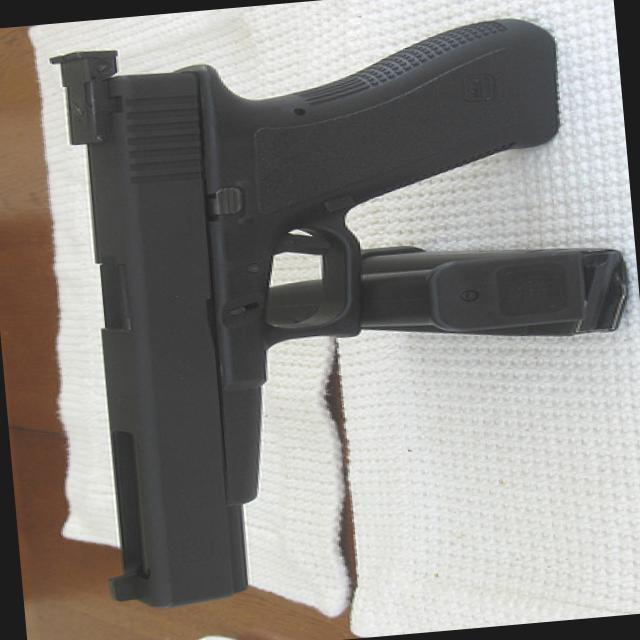handgun: (46, 11, 604, 613)
